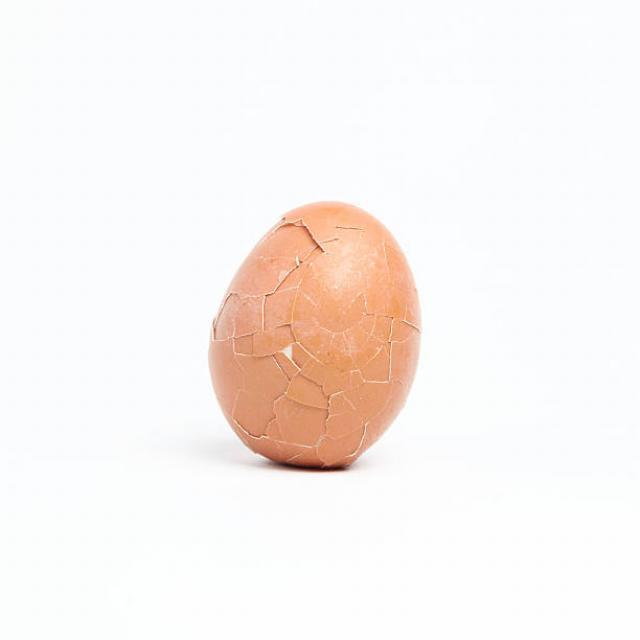biodegradable: (193, 181, 457, 501)
